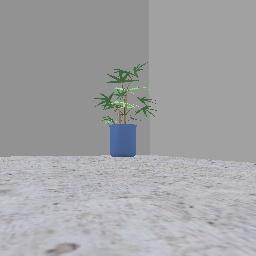planta: (94, 62, 157, 156)
